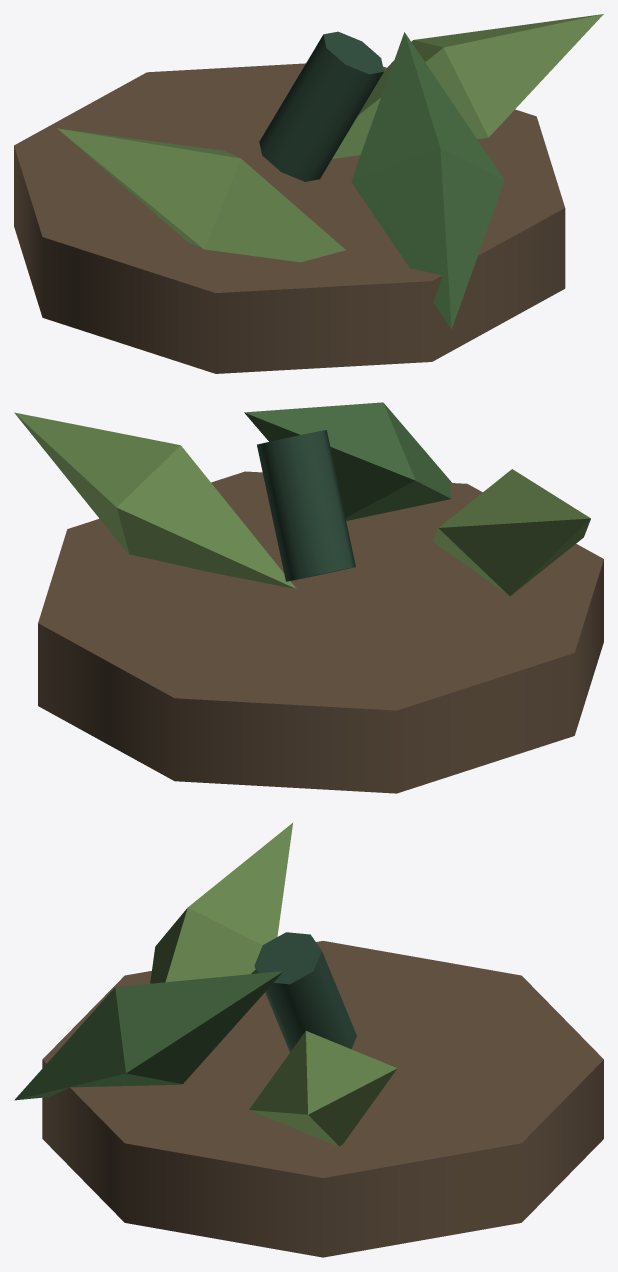
File: plant-pumpkin-1.glb
3 renders of one model, top to bottom at view 1: azimuth 30°, elevation 25°; view 2: azimuth 150°, elevation 25°; view 3: azimuth 270°, elevation 25°, orthographic. The views are drawn at different scales.
Parts seen in each view (by area): view 1: plant-pumpkin-1-visual; view 2: plant-pumpkin-1-visual; view 3: plant-pumpkin-1-visual.
Part boxes in pixels (x1,y1,x2,y2): plant-pumpkin-1-visual: (14,14,603,373); plant-pumpkin-1-visual: (14,402,603,793); plant-pumpkin-1-visual: (14,822,603,1257).
Bounding box in the file's own units: 0.3591 × 0.1368 × 0.3362.
